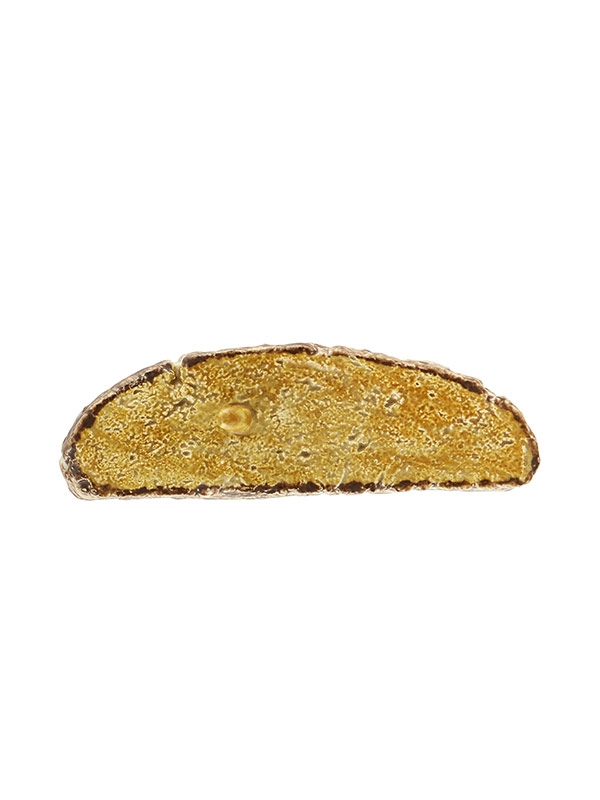slice of bread: (59, 346, 545, 498)
